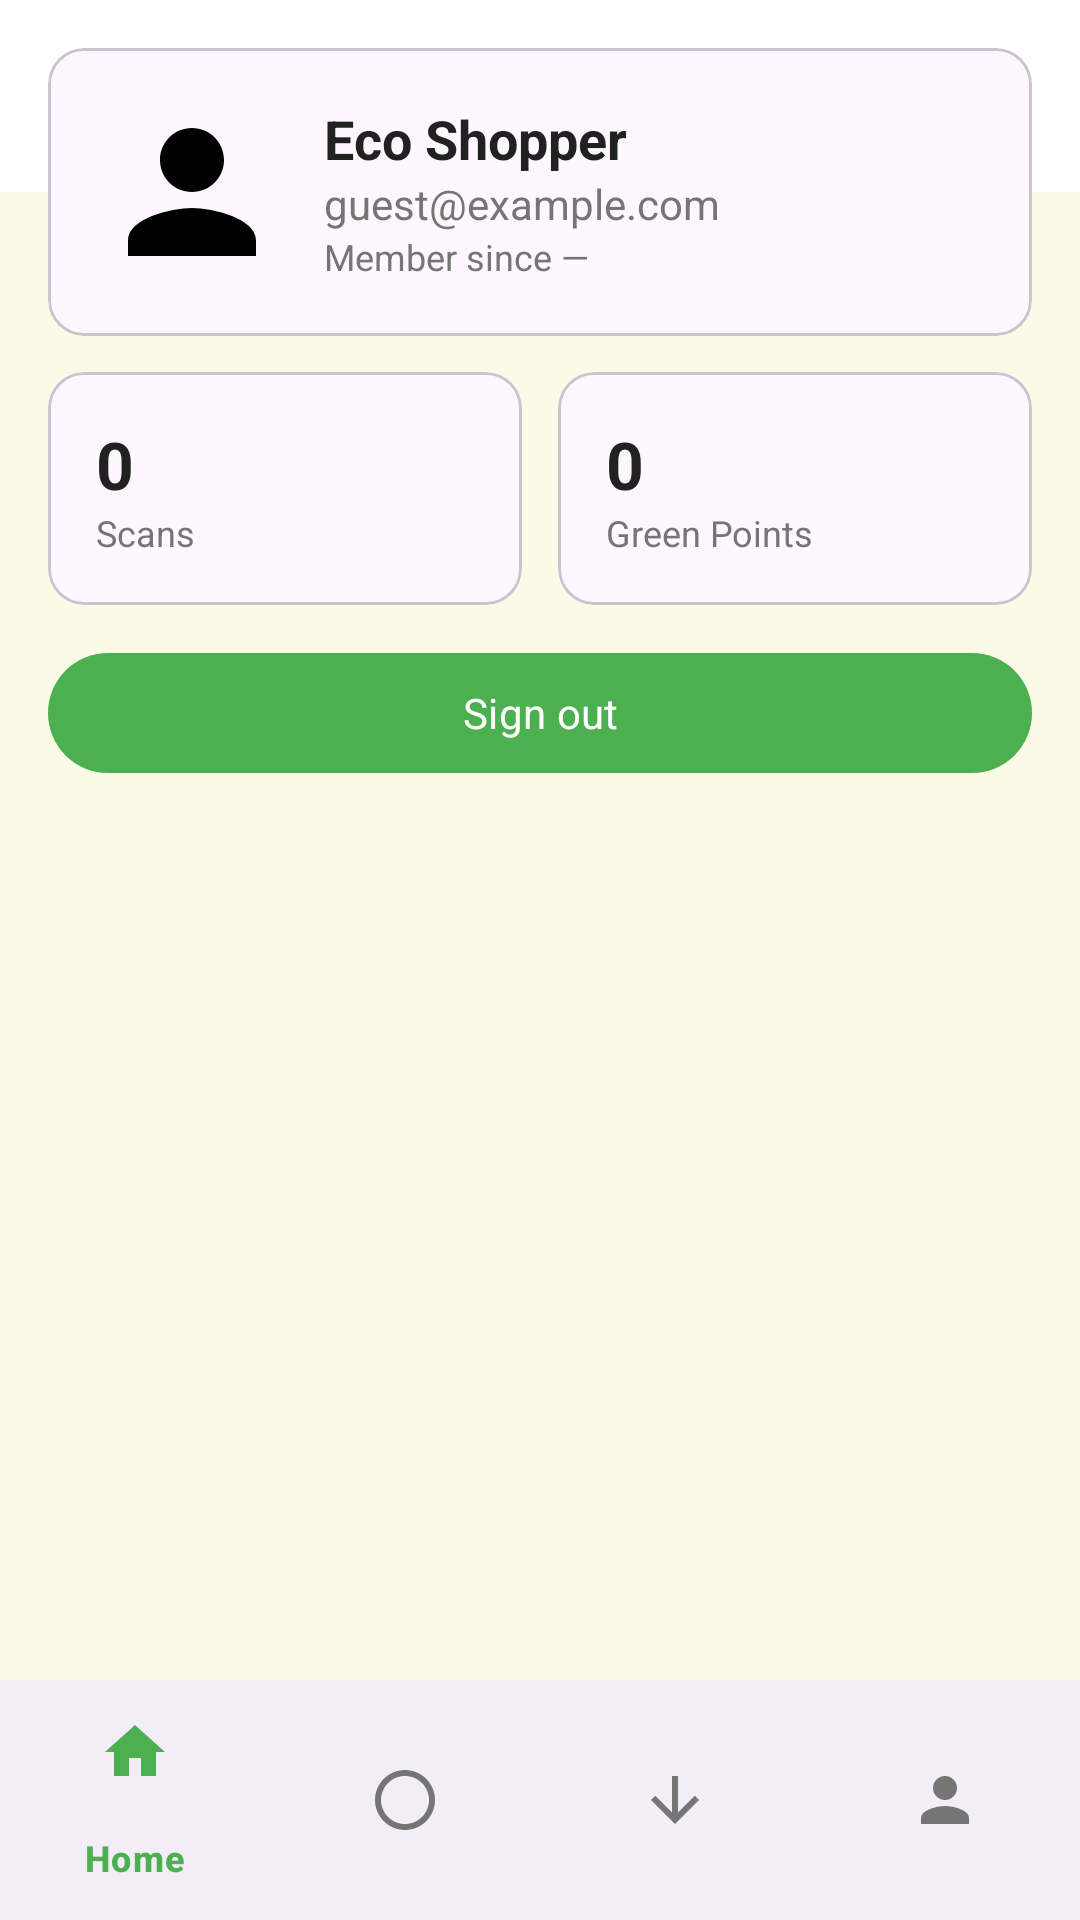

Point at icon controls on the screen. Image size 1080 × 1920, points as (x,y).
User avatar: (192,192)
